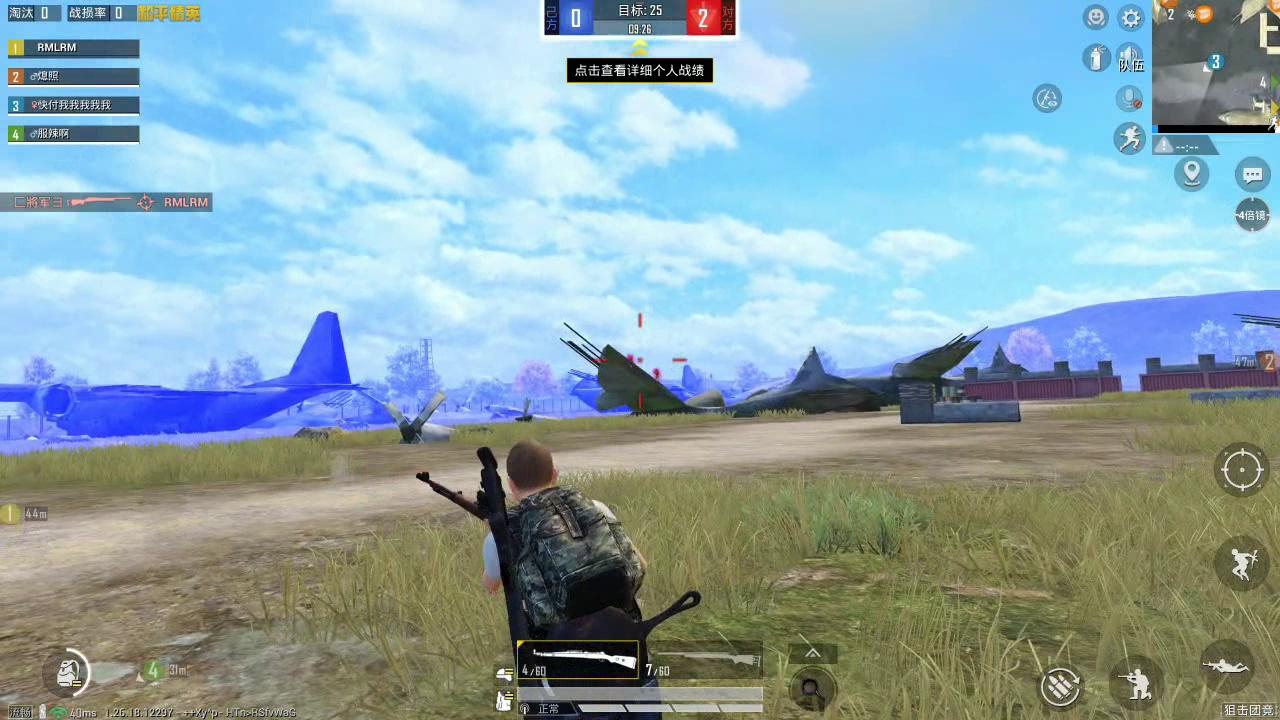enemy: (626, 352, 635, 364), (653, 367, 660, 380)
